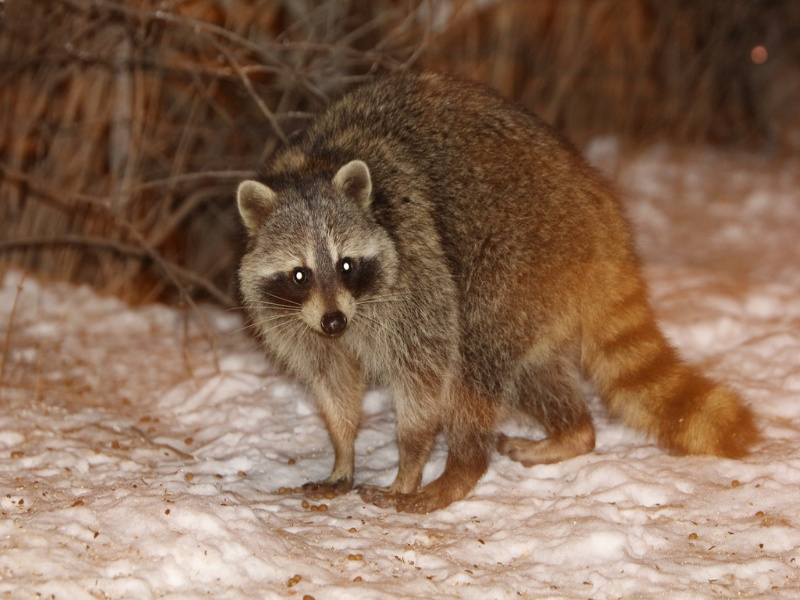raccoon: (226, 62, 772, 525)
